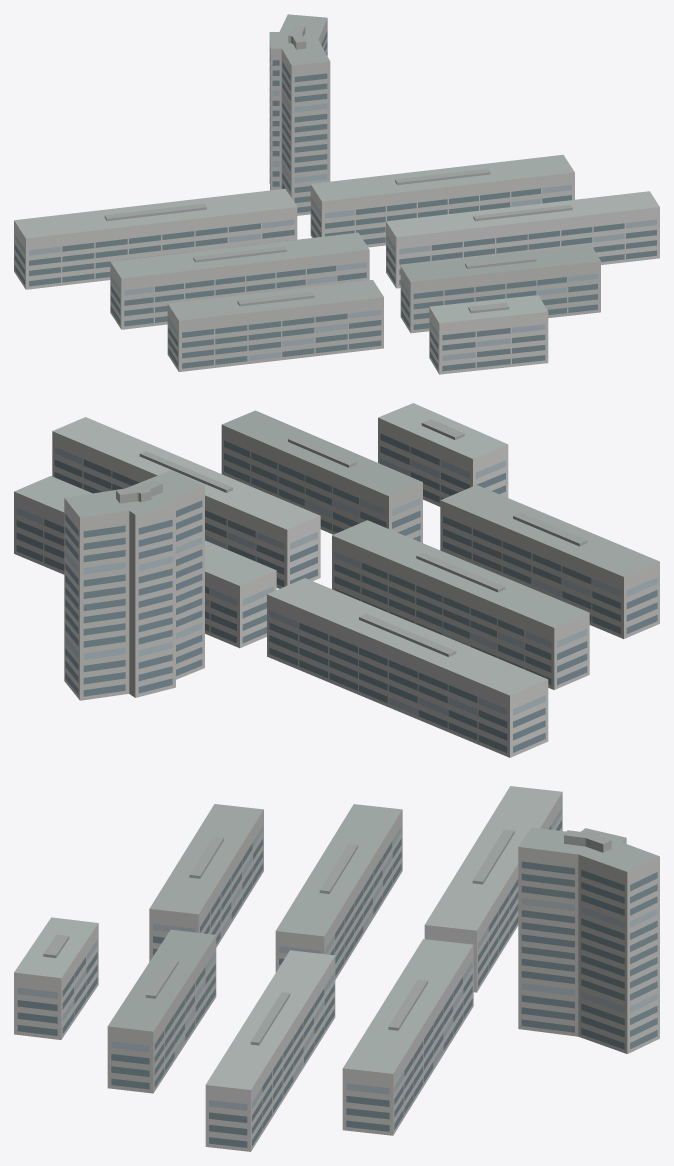
Rendered from apt-a10023565.glb.
The picture shows the model from 3 angles, top to bottom: view 1: azimuth 30°, elevation 25°; view 2: azimuth 150°, elevation 25°; view 3: azimuth 270°, elevation 25°; orthographic projection. The views are drawn at different scales.
Parts seen in each view (by area): view 1: apt-a10023565; view 2: apt-a10023565; view 3: apt-a10023565.
Part boxes in pixels (<box>): apt-a10023565: <box>14,14,659,374</box>; apt-a10023565: <box>14,403,659,757</box>; apt-a10023565: <box>14,786,659,1151</box>.
Bounding box in the file's own units: 161 × 47 × 144.
